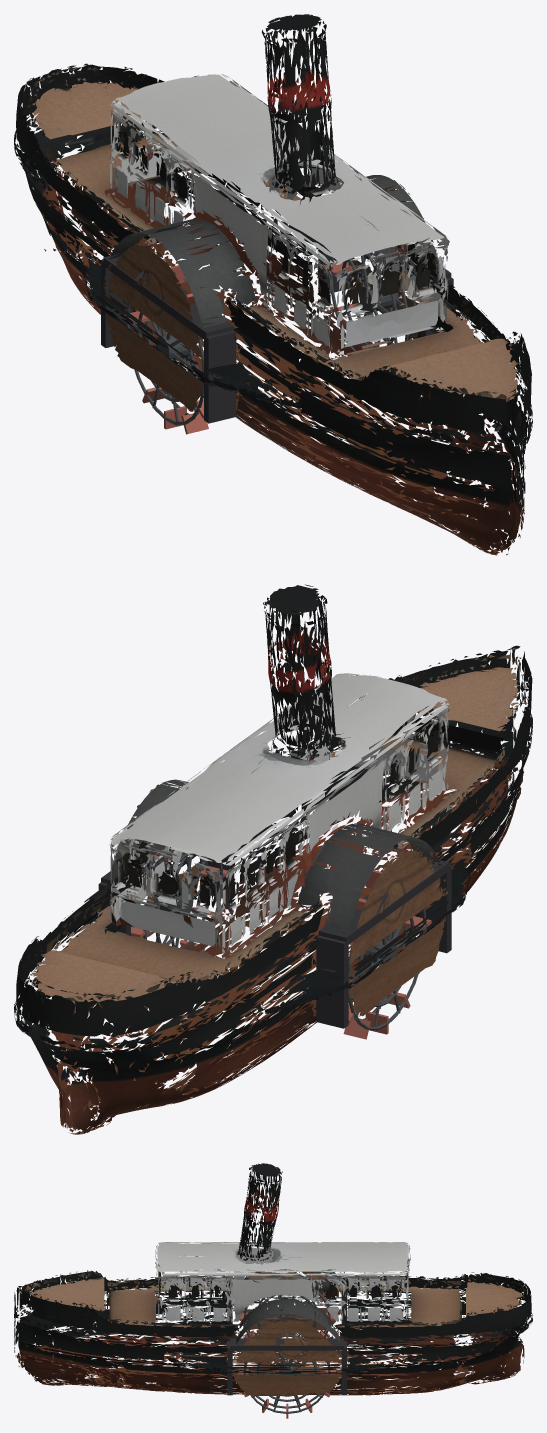
File: paddle_steamer.glb
The picture shows the model from 3 angles, top to bottom: view 1: azimuth 30°, elevation 25°; view 2: azimuth 150°, elevation 25°; view 3: azimuth 270°, elevation 25°; orthographic projection. The views are drawn at different scales.
Visible parts, largest first — view 1: HullBody, PART_wheel_stbd, PART_wheel_port; view 2: HullBody, PART_wheel_stbd, PART_wheel_port; view 3: HullBody, PART_wheel_port, PART_wheel_stbd.
Boxes of the visible parts, <box> form: HullBody: <box>14,14,532,555</box>; PART_wheel_stbd: <box>121,258,208,434</box>; PART_wheel_port: <box>324,244,415,351</box>; HullBody: <box>14,584,532,1134</box>; PART_wheel_stbd: <box>343,864,431,1039</box>; PART_wheel_port: <box>131,851,228,952</box>; HullBody: <box>14,1163,532,1395</box>; PART_wheel_port: <box>238,1334,335,1418</box>; PART_wheel_stbd: <box>238,1269,334,1361</box>.
Bounding box in the file's own units: 14.46 × 21.07 × 45.
6 materials, 1 textured.
